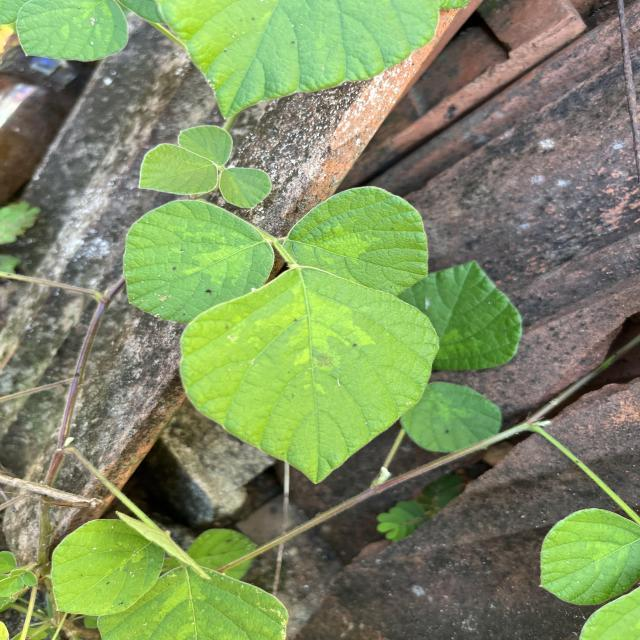Pseudarthria viscida: (119, 184, 442, 488), (137, 124, 274, 210)
